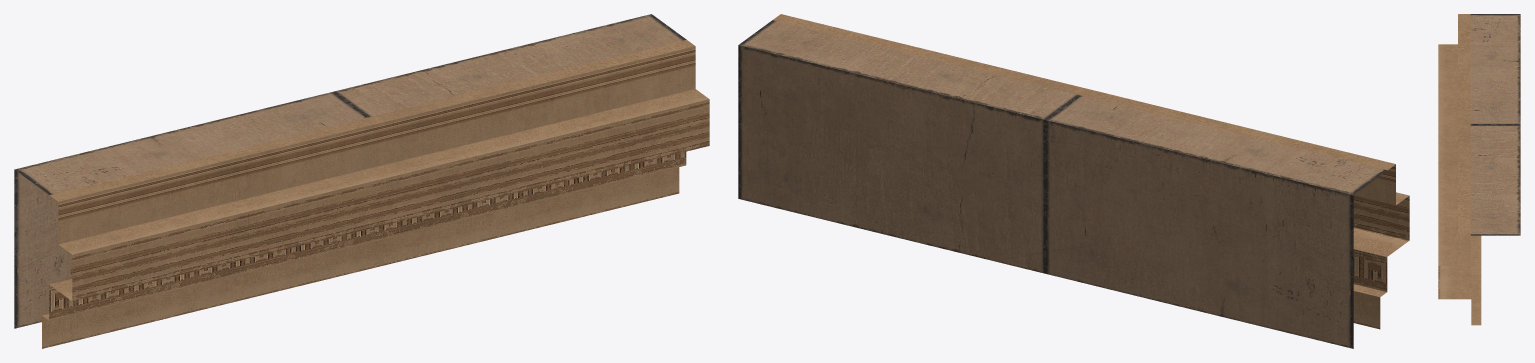
The model's file is House_01_Parapet_01.fbx.
The picture shows the model from 3 angles, left to right: view 1: azimuth 30°, elevation 25°; view 2: azimuth 150°, elevation 25°; view 3: azimuth 270°, elevation 25°; orthographic projection. The views are drawn at different scales.
Visible parts, largest first — view 1: House_01_Parapet_01; view 2: House_01_Parapet_01; view 3: House_01_Parapet_01.
Part boxes in pixels (x1,y1,x2,y2): House_01_Parapet_01: [14, 14, 709, 348]; House_01_Parapet_01: [738, 14, 1409, 348]; House_01_Parapet_01: [1438, 14, 1520, 325].
Size of the model in its own units: 400 by 95.54 by 63.
